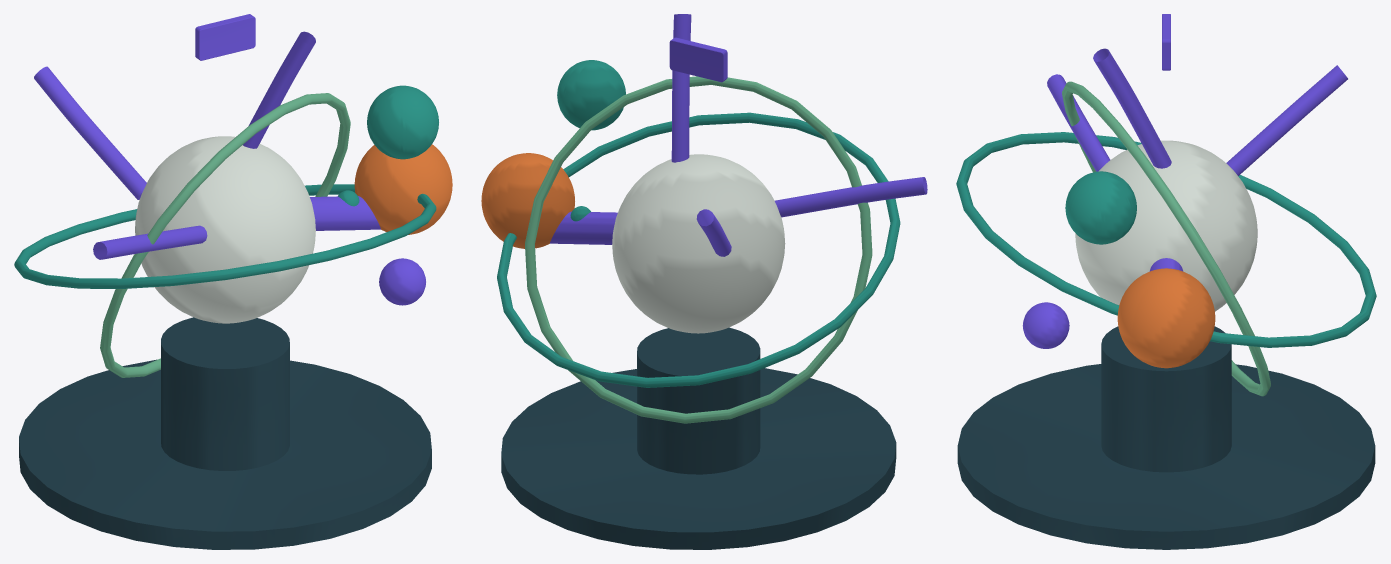
The model's file is 0504_生活中的化学图鉴_离子.glb.
3 views of the same model, side by side, from view 1: azimuth 30°, elevation 25°; view 2: azimuth 150°, elevation 25°; view 3: azimuth 270°, elevation 25° (orthographic). The views are drawn at different scales.
Visible parts, largest first — view 1: card_0504; view 2: card_0504; view 3: card_0504.
Boxes of the visible parts, x1,y1,x2,y2 form: card_0504: (14, 14, 452, 549); card_0504: (481, 14, 927, 549); card_0504: (956, 14, 1376, 549).
Size of the model in its own units: 0.9634 by 1 by 0.8715.
